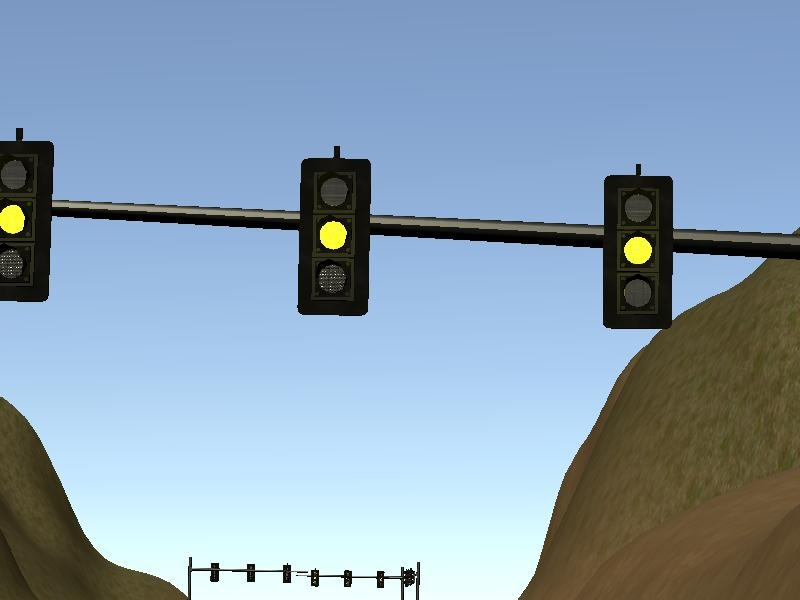yellow: (292, 142, 380, 330), (597, 159, 679, 334), (1, 137, 64, 301)
